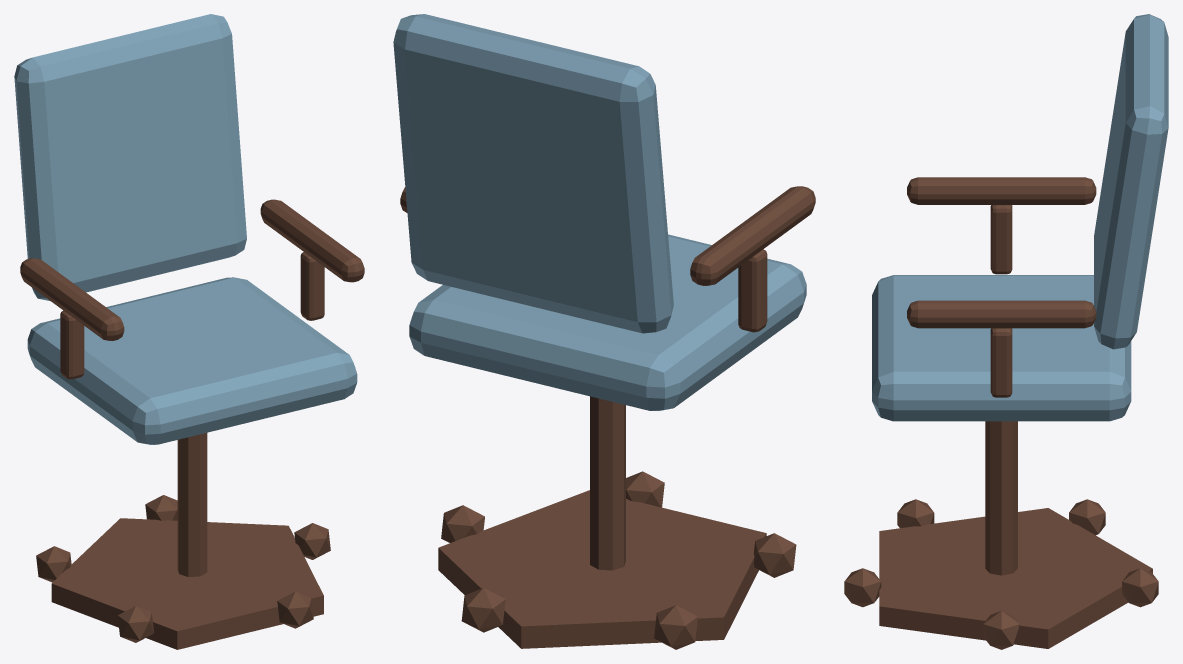
Rendered from chair.glb.
3 views of the same model, side by side, from view 1: azimuth 30°, elevation 25°; view 2: azimuth 150°, elevation 25°; view 3: azimuth 270°, elevation 25° (orthographic). The views are drawn at different scales.
Parts seen in each view (by area): view 1: chair; view 2: chair; view 3: chair.
Part boxes in pixels (box(x1,y1,x2,y2)): chair: box(14, 14, 364, 649); chair: box(393, 14, 815, 649); chair: box(844, 14, 1168, 649).
Bounding box in the file's own units: 0.6008 × 1.08 × 0.5996.
